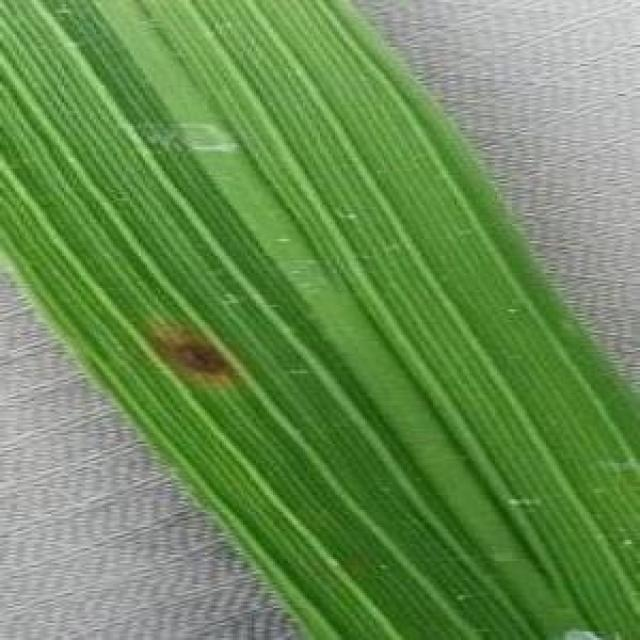Brown_Spot: (148, 314, 261, 404)
